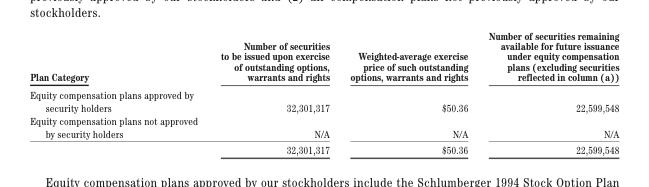table: (29, 28, 618, 155)
table column: (29, 28, 208, 155), (477, 28, 618, 155), (339, 28, 477, 155), (208, 28, 339, 155)
table column header: (29, 28, 618, 85)
table row: (29, 28, 618, 85), (29, 85, 618, 113), (29, 113, 618, 141), (29, 141, 618, 155)
